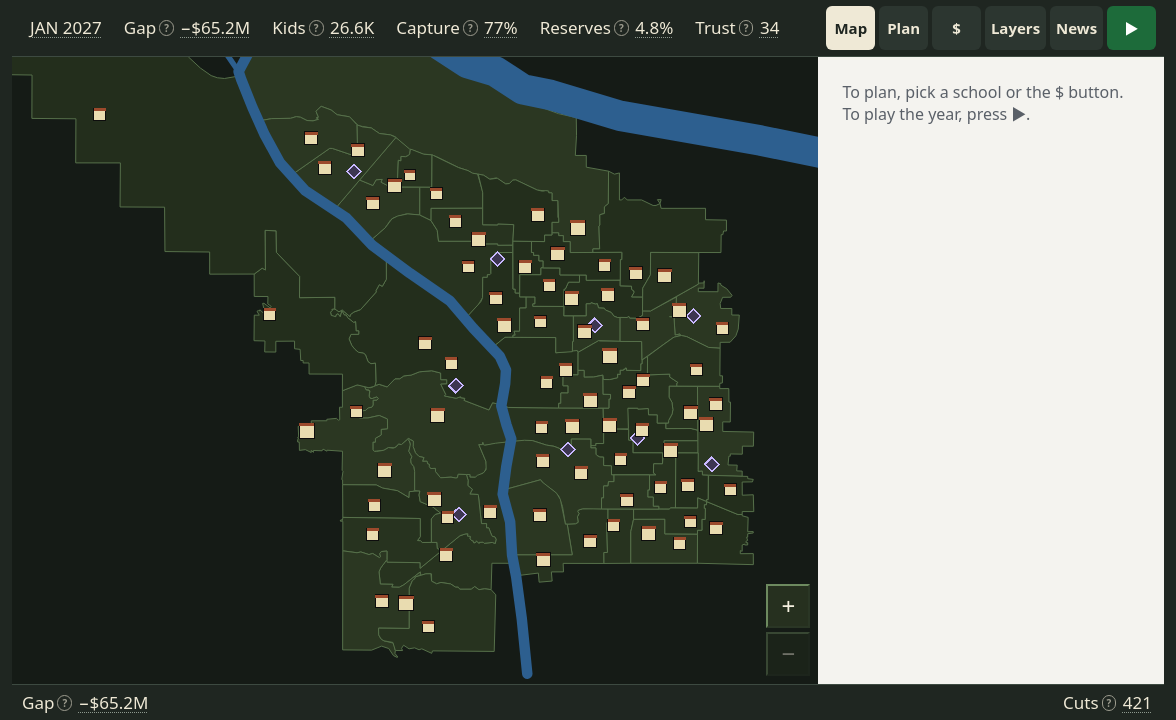
it: App › can restore the levy to its current rate after stepping past it
Click the button named "Budget": coordinates (956, 28) [932, 6, 981, 50]
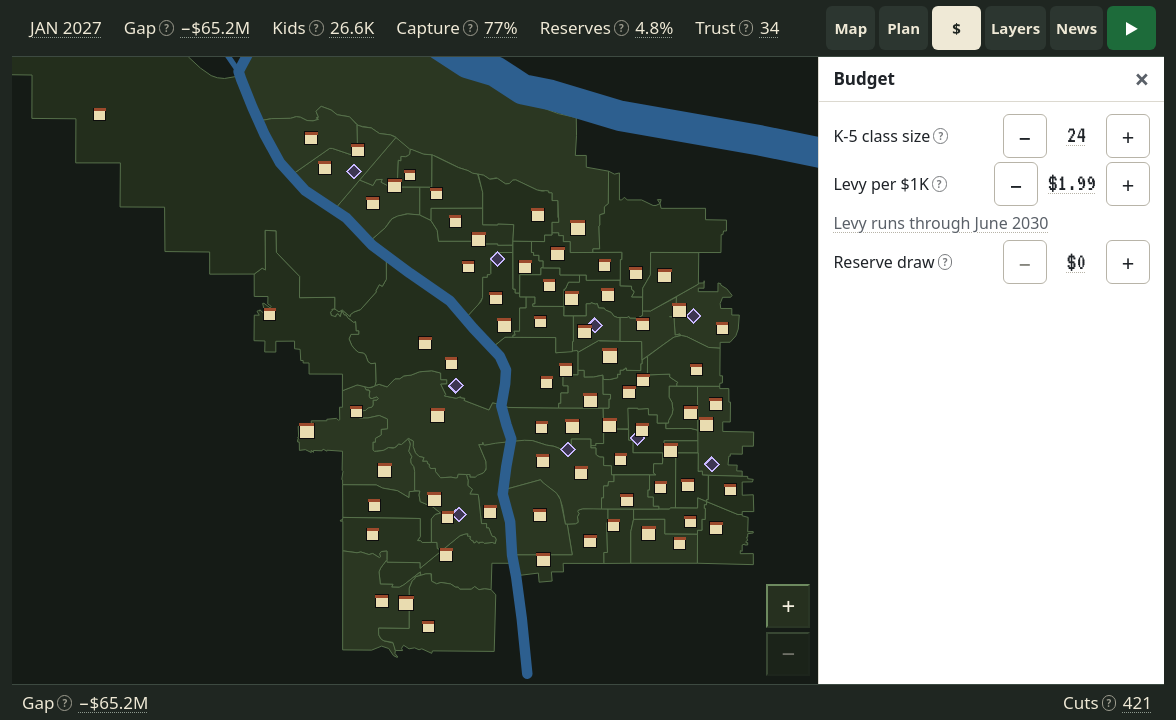
Click the button named "More Levy rate": coordinates (1128, 184) [1106, 162, 1150, 206]
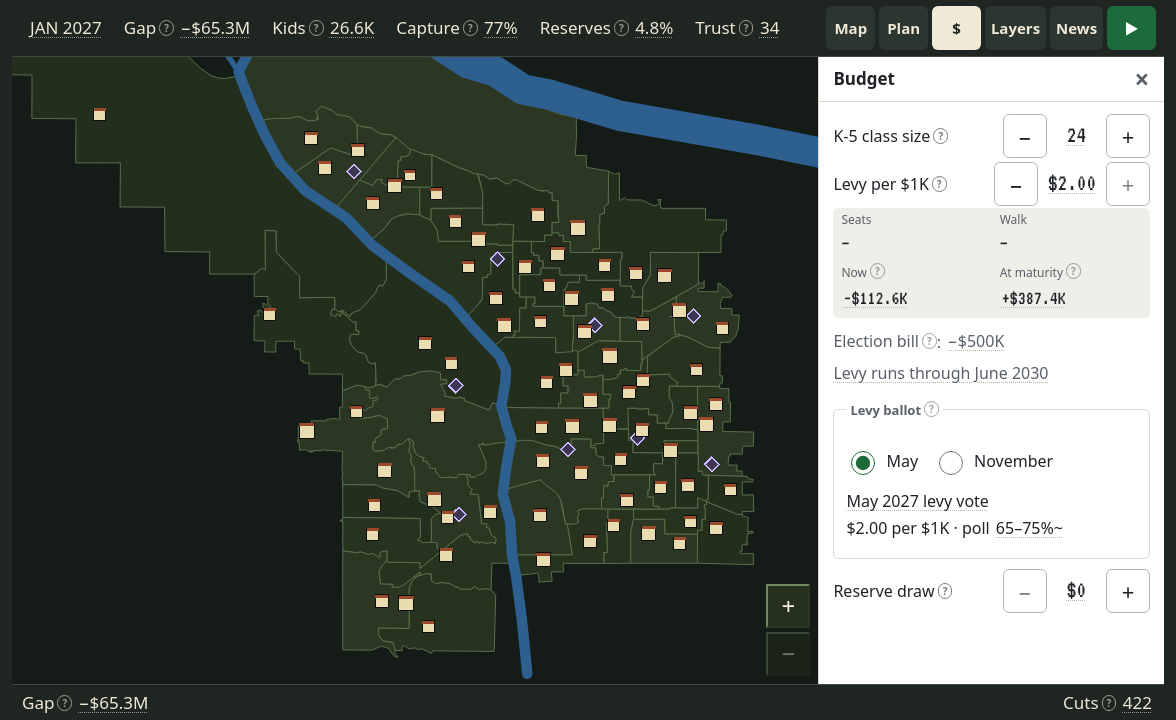
Click the button named "Less Levy rate": coordinates (1016, 184) [994, 162, 1038, 206]
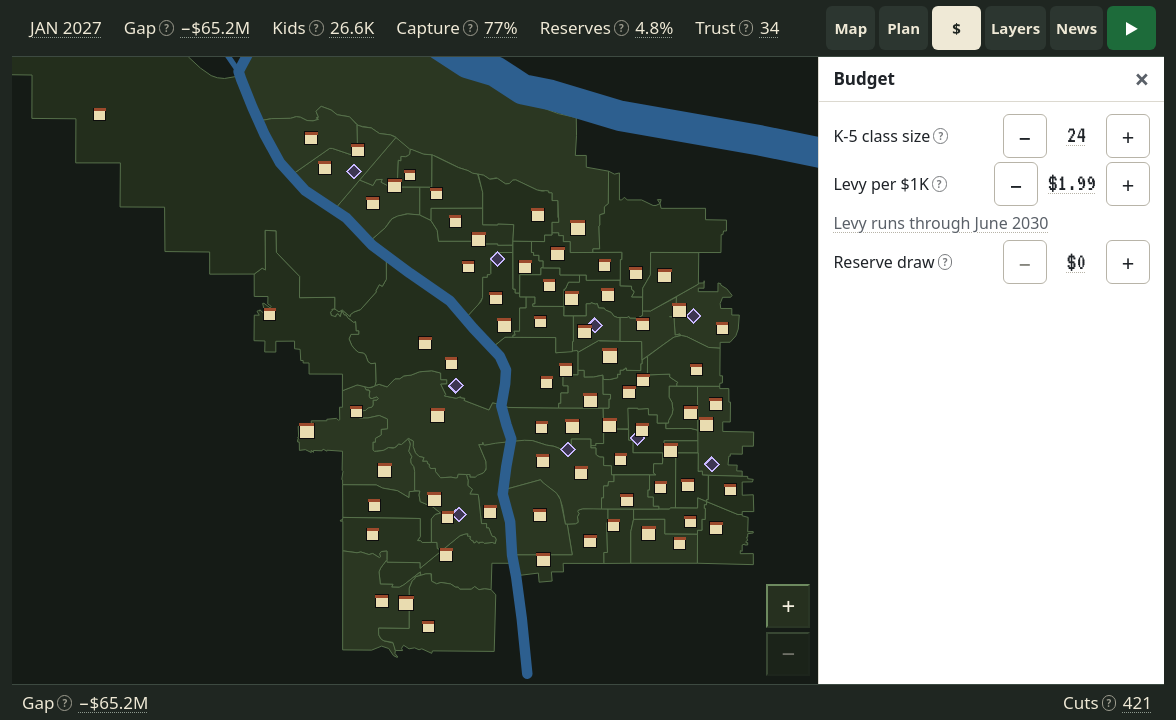
Result: the element named "Levy rate" shows "$1.99" at [1046, 167, 1098, 201]
Result: no elements with class "chip" are shown
